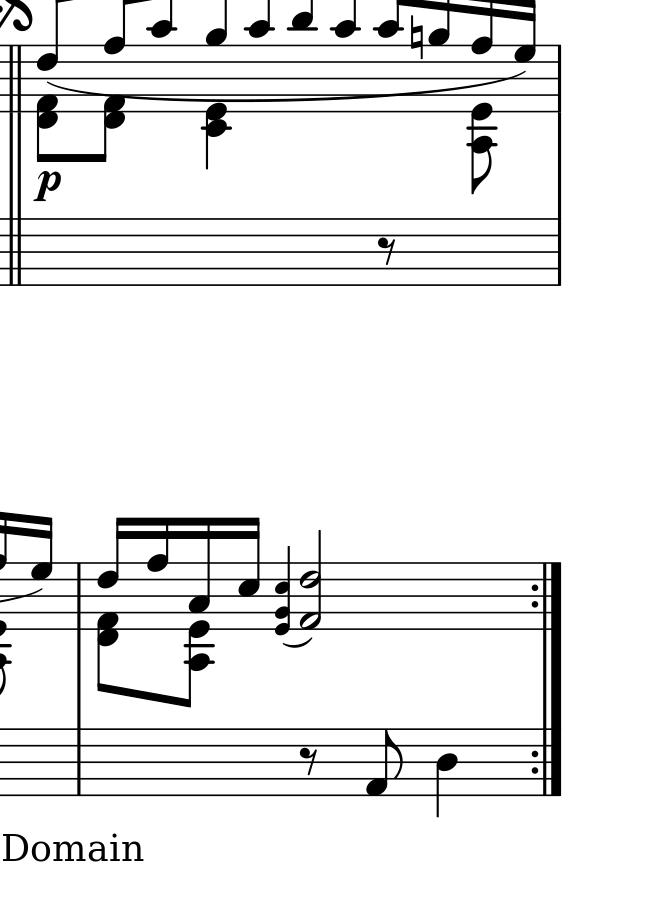16_5: (236, 514, 261, 631)
16_7: (514, 1, 535, 116)
16_8: (145, 516, 172, 631)
2_1_6: (298, 531, 325, 631)
4_4: (434, 728, 459, 818)
8_1: (363, 728, 404, 798)
Double_barline: (3, 217, 29, 286), (3, 44, 29, 113)
Natural: (408, 13, 425, 61)
Rests8: (297, 745, 319, 777), (376, 235, 398, 266)
RightRepeatSign: (529, 560, 564, 628), (530, 727, 562, 794)
Single_barline: (549, 218, 567, 286), (71, 563, 87, 629), (71, 728, 86, 795), (552, 45, 566, 113)
Slur: (49, 72, 530, 96), (281, 636, 314, 649)
p: (32, 168, 64, 205)
